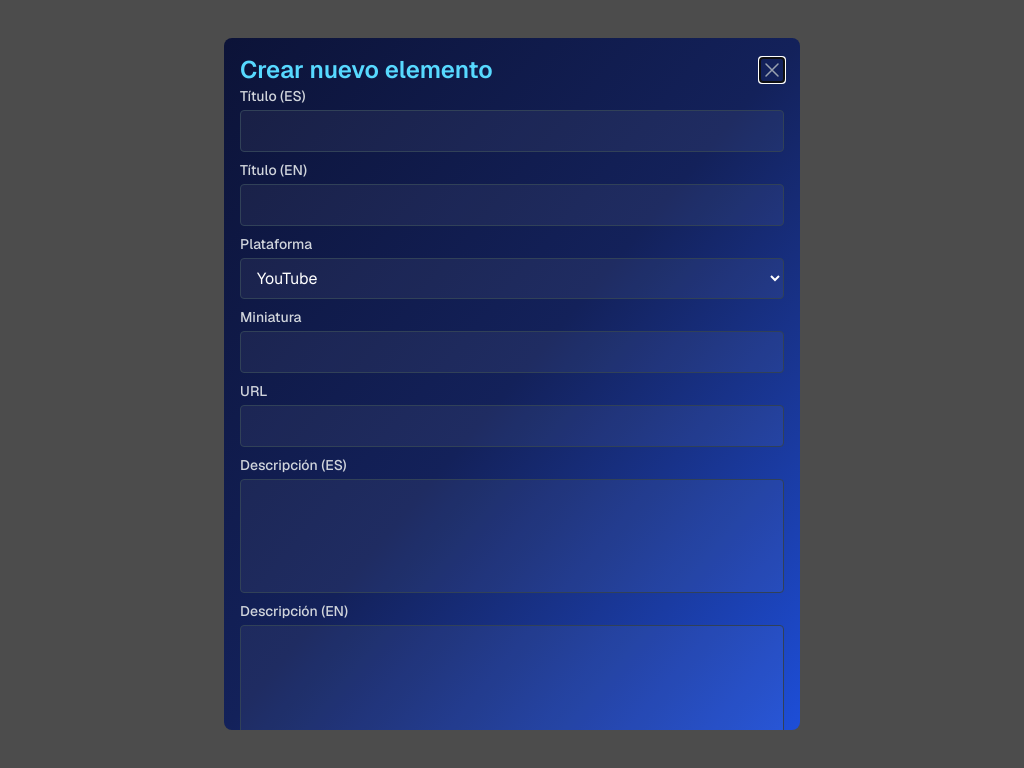
Test: PortfolioModal › shows validation errors returned by the action
Type "Proyecto nuevo" into the field labelled "Título (ES)". click: (512, 131)
box: [240,110,784,152]
Type "New project" into the field labelled "Título (EN)". click: (512, 205)
box: [240,184,784,226]
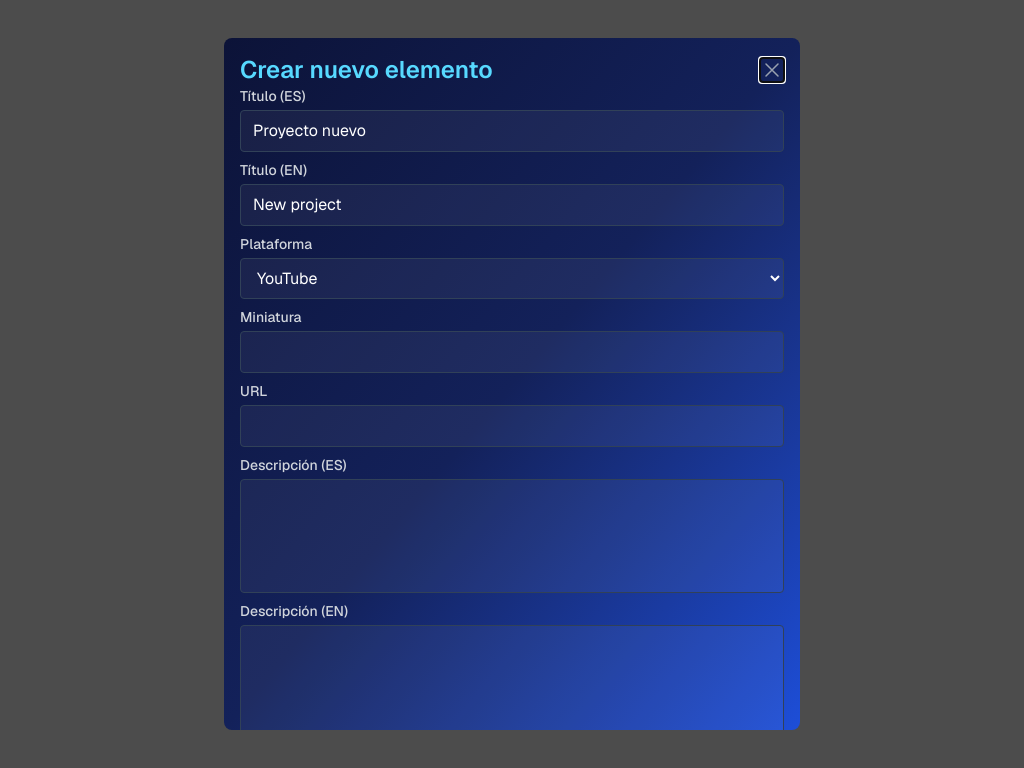
Type "https://i.ytimg.com/vi/abc/hqdefault.jpg" into the field labelled "Miniatura". click: (512, 352)
box: [240,331,784,373]
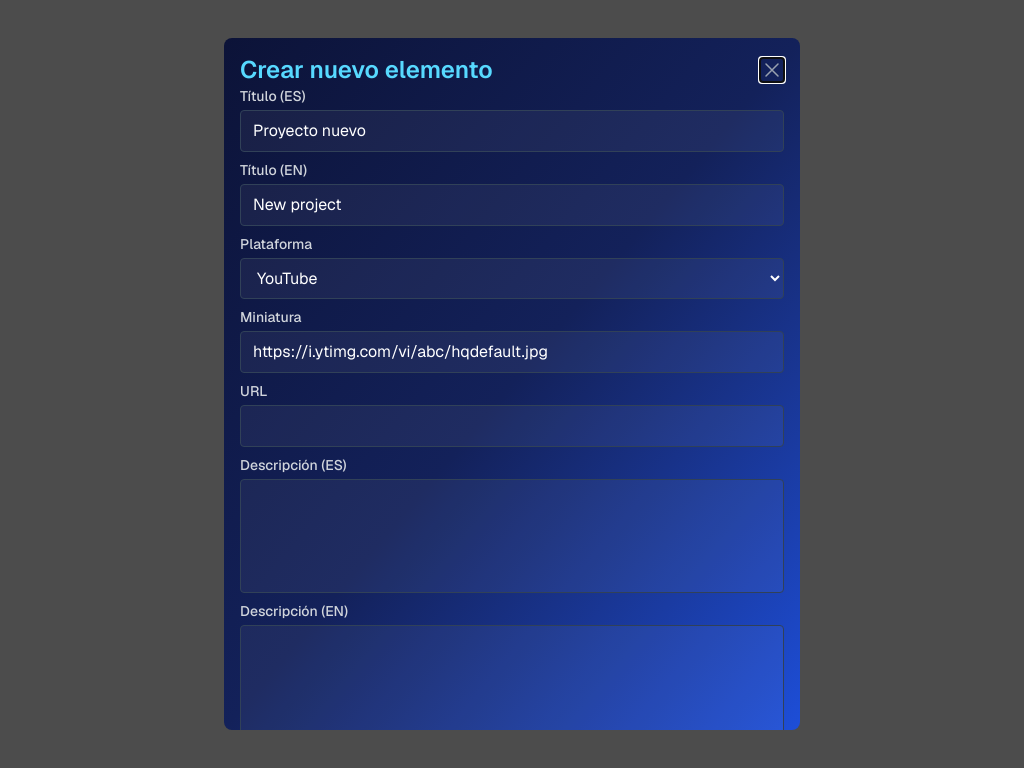
Type "https://www.youtube.com/watch?v=abc" into the field labelled "URL". click: (512, 426)
box: [240,405,784,447]
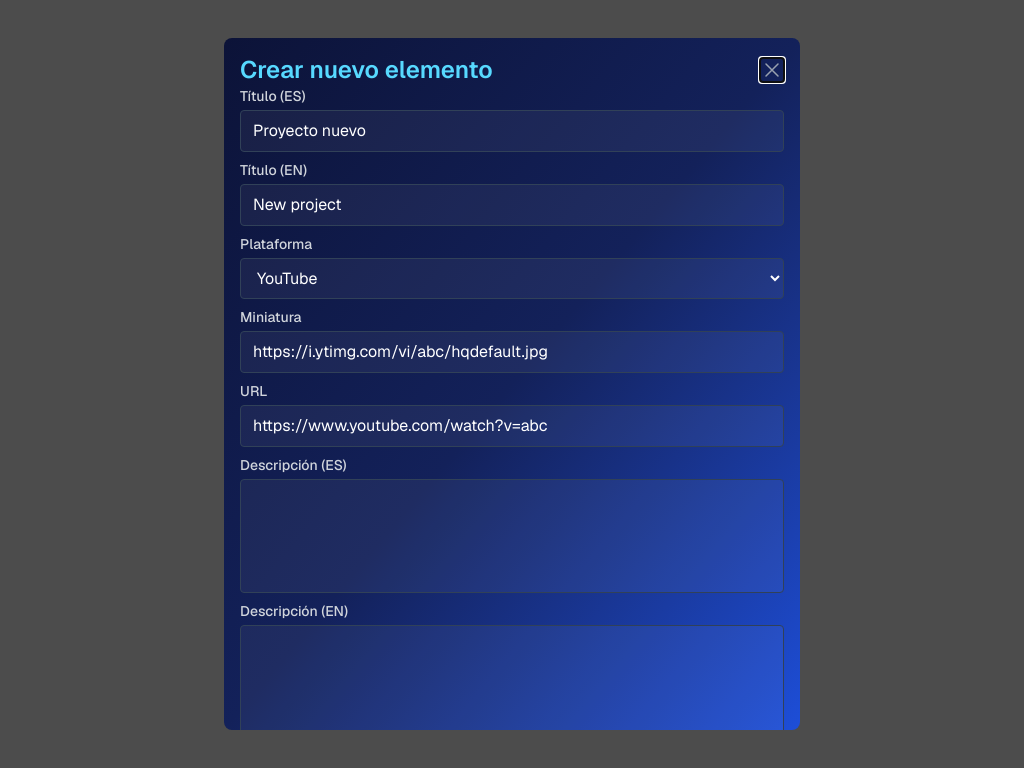
Type "Descripcion valida" into the text box labelled "Descripción (ES)". click: (512, 536)
box: [240,479,784,593]
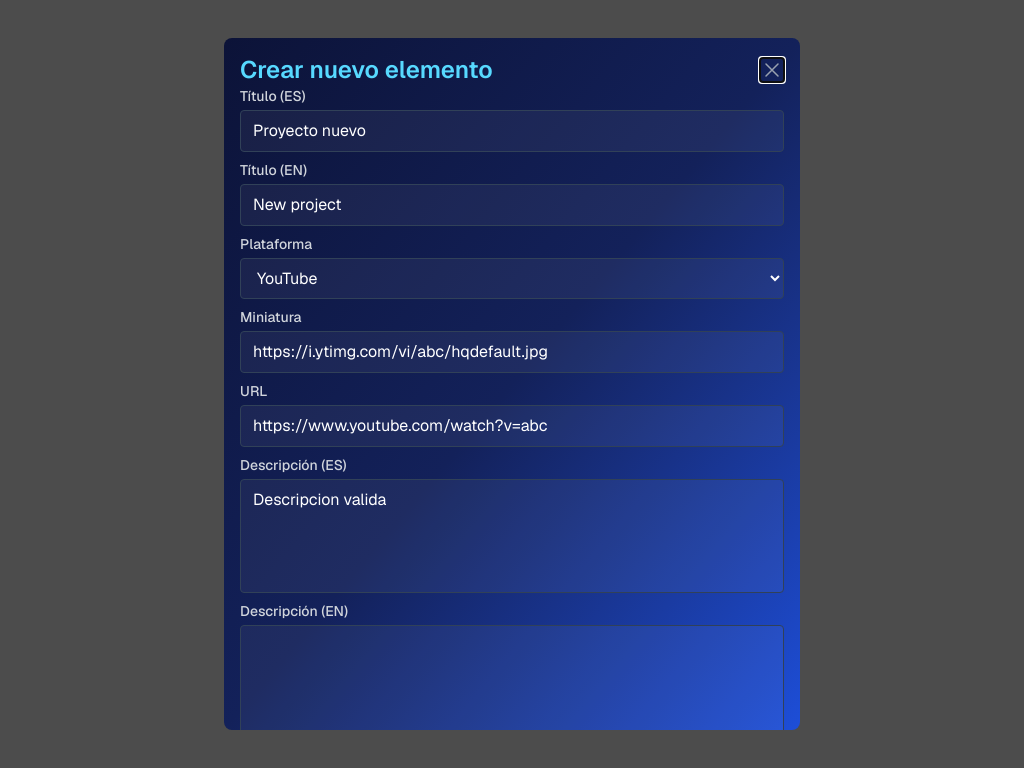
Type "Valid description" into the text box labelled "Descripción (EN)". click: (512, 682)
box: [240,625,784,739]
(page scrolled)
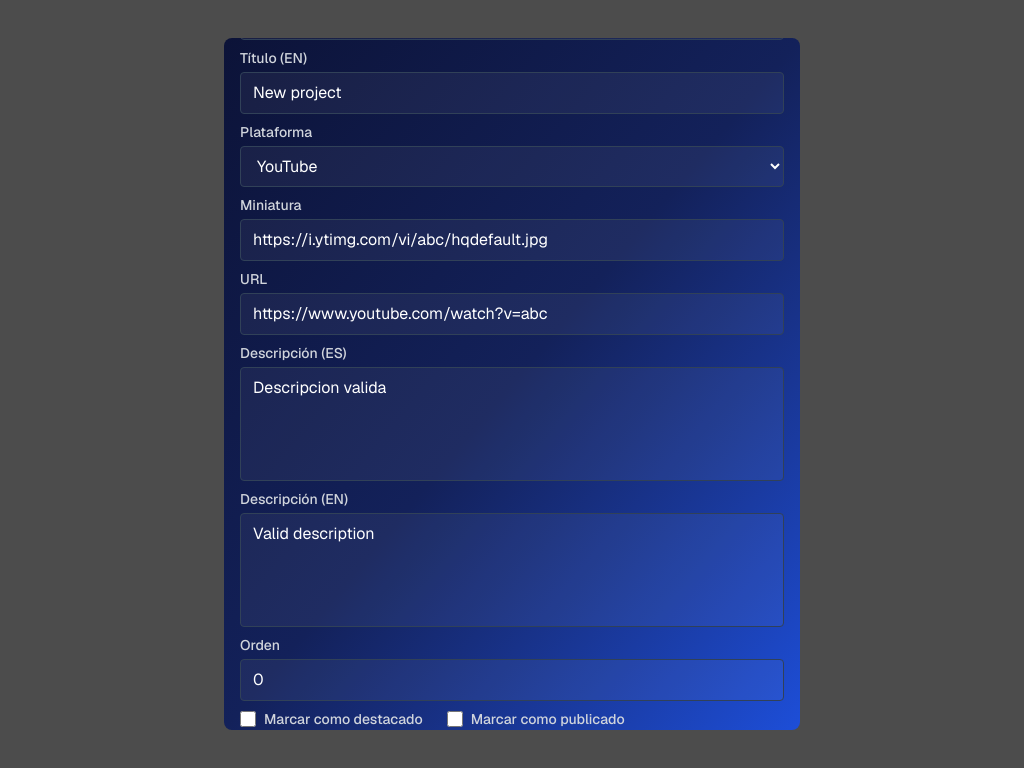
Submit the form named "Crear"
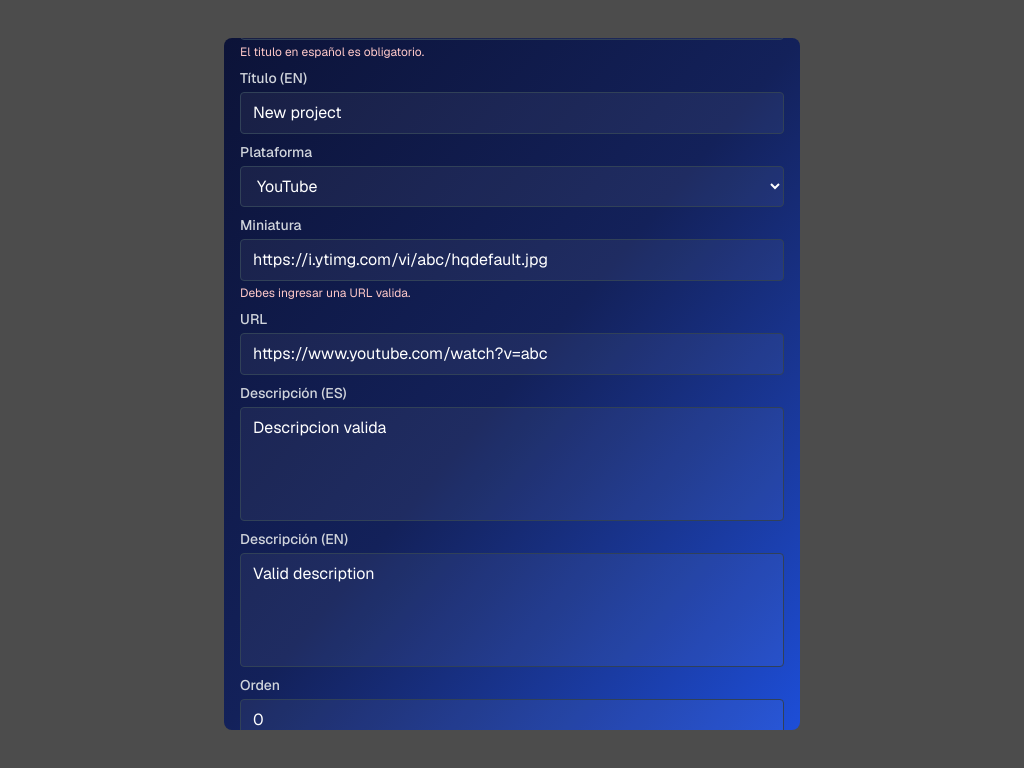
expect the text "El titulo en español es obligatorio." is shown: met, box [240,44,424,60]
expect the text "Debes ingresar una URL valida." is shown: met, box [240,285,410,301]
